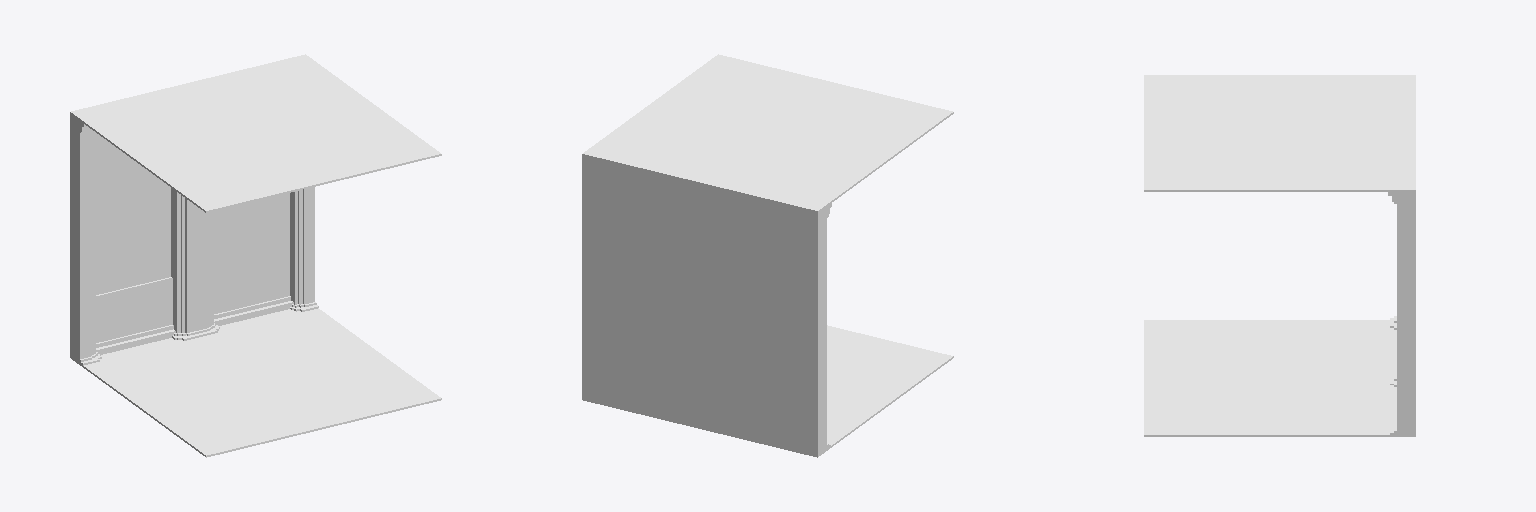
File: cave-b5-d5.obj
The picture shows the model from 3 angles: view 1: azimuth 30°, elevation 25°; view 2: azimuth 150°, elevation 25°; view 3: azimuth 270°, elevation 25°; orthographic projection.
Size of the model in its own units: 126 by 126 by 126.